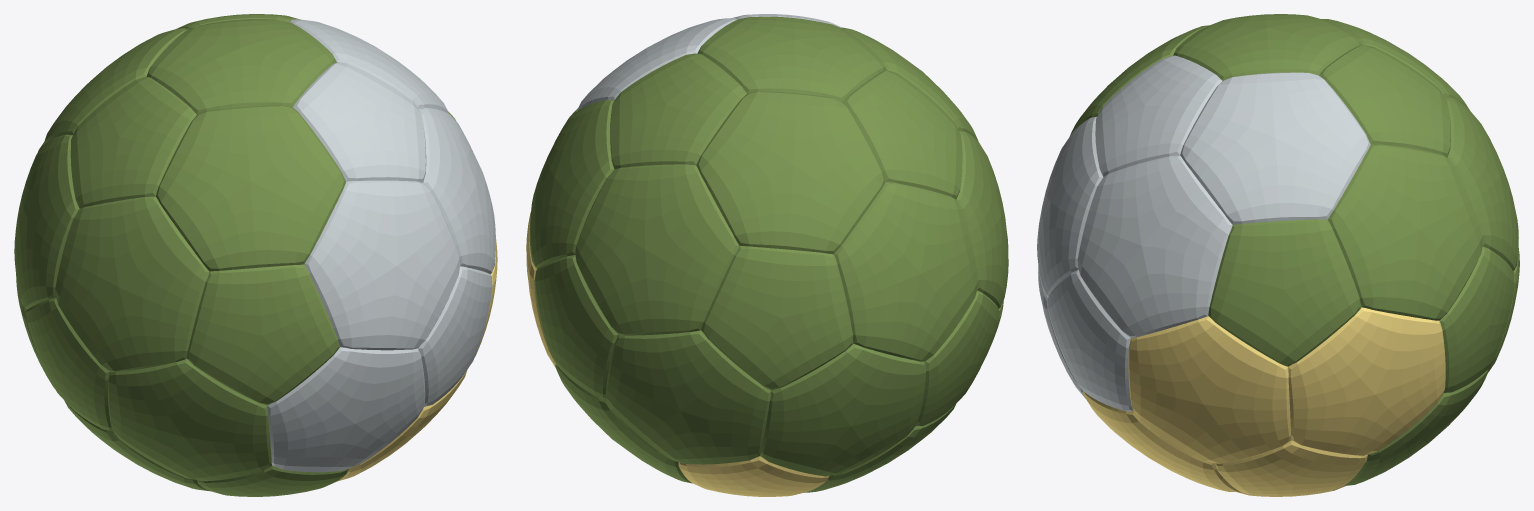
Rendered from Planet_Base.fbx.
3 renders of one model, left to right at view 1: azimuth 30°, elevation 25°; view 2: azimuth 150°, elevation 25°; view 3: azimuth 270°, elevation 25°, orthographic.
Parts seen in each view (by area): view 1: PlanetBase; view 2: PlanetBase; view 3: PlanetBase.
Part boxes in pixels (x1,y1,x2,y2): PlanetBase: (14,14,497,496); PlanetBase: (526,14,1008,496); PlanetBase: (1037,14,1519,496).
Bounding box in the file's own units: 3209 × 3193 × 3205.
